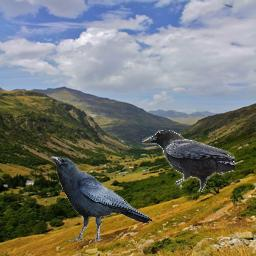Crow: (49, 156, 152, 243), (142, 130, 235, 192)
